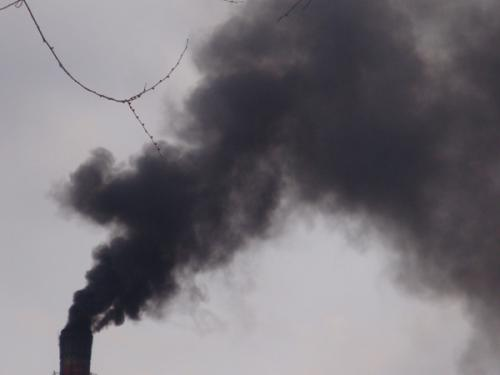smoke: (58, 1, 500, 329)
